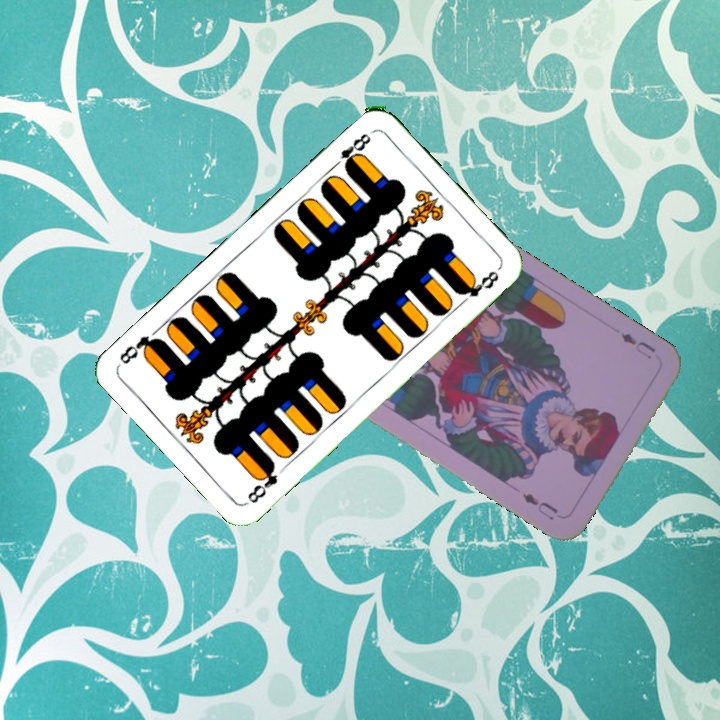E8: (328, 129, 374, 173), (242, 458, 280, 507)
EU: (616, 328, 658, 362)
